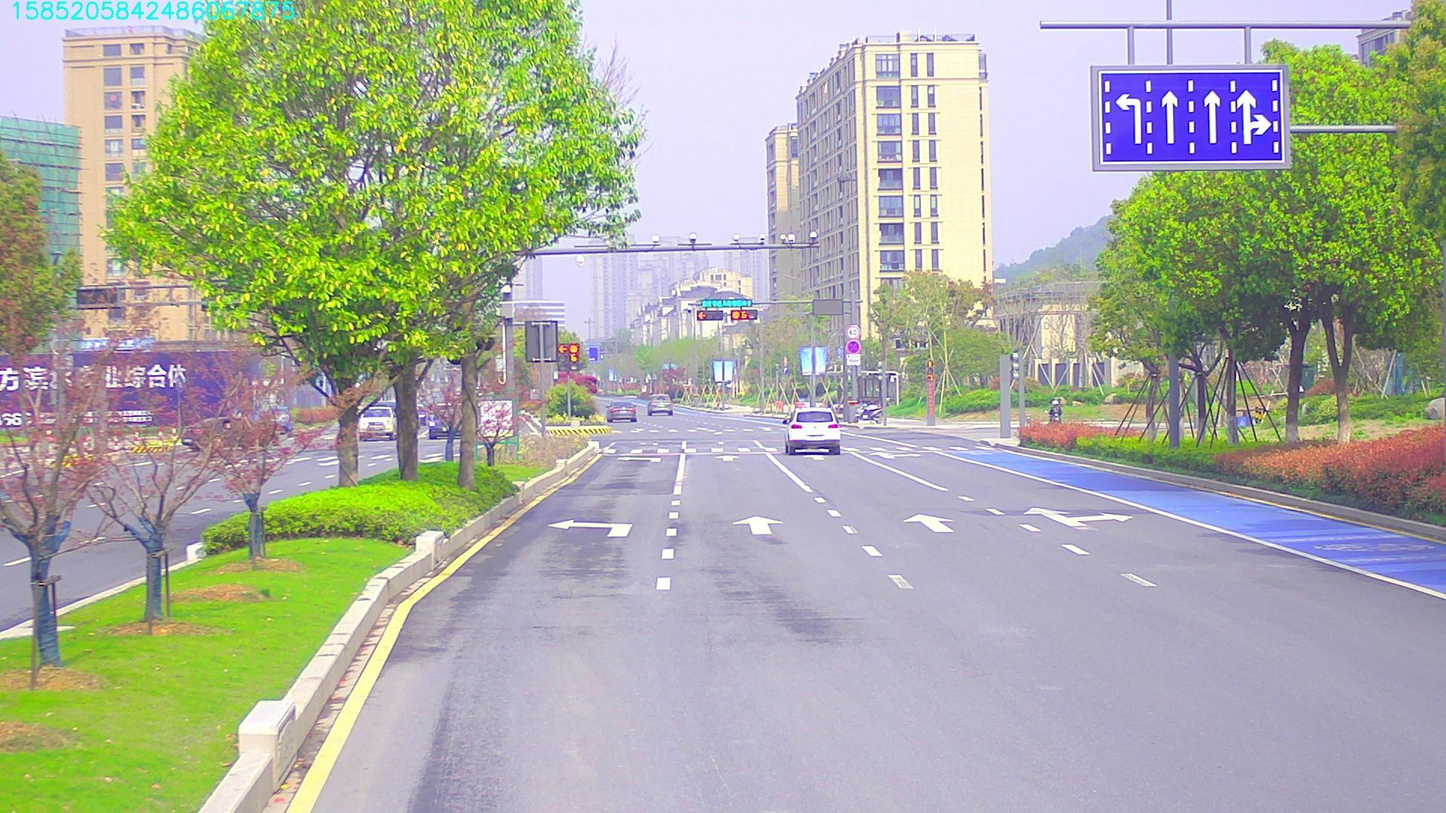red: (731, 310, 760, 322), (696, 306, 722, 318)
wait_on: (712, 297, 753, 304)
